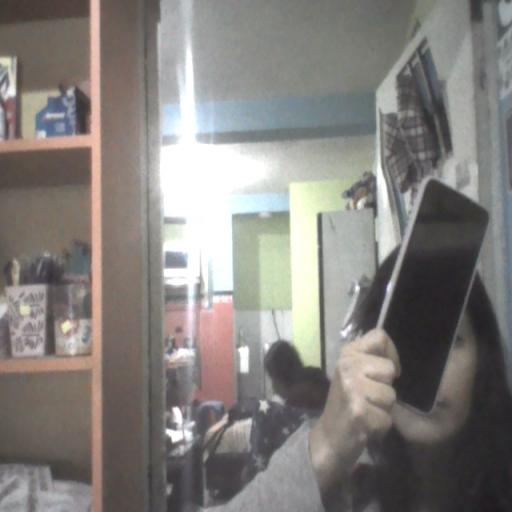phone: (362, 159, 494, 421)
